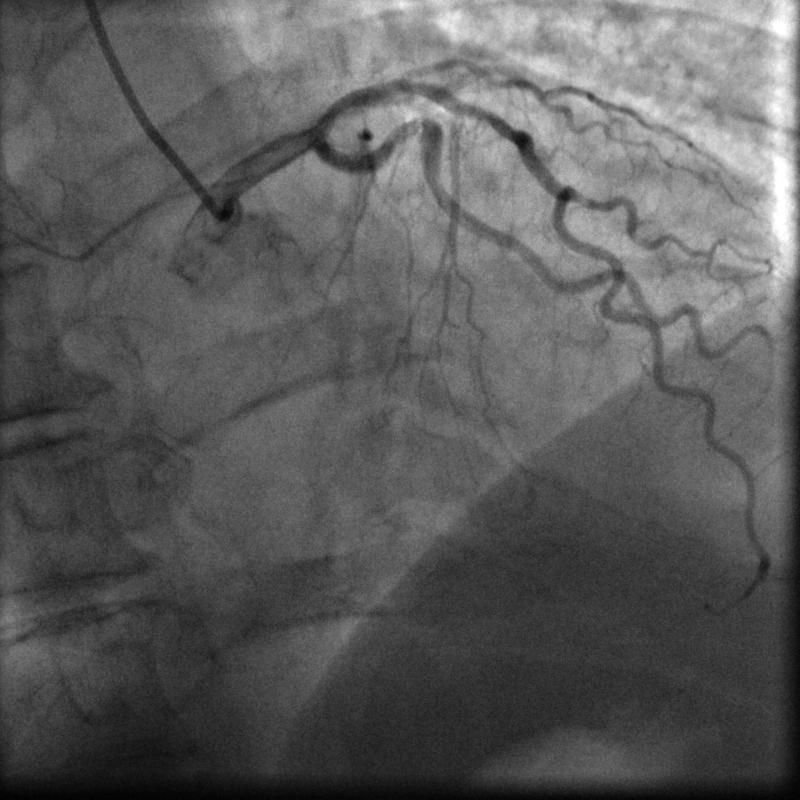Stenosis: (389, 114, 444, 144)
